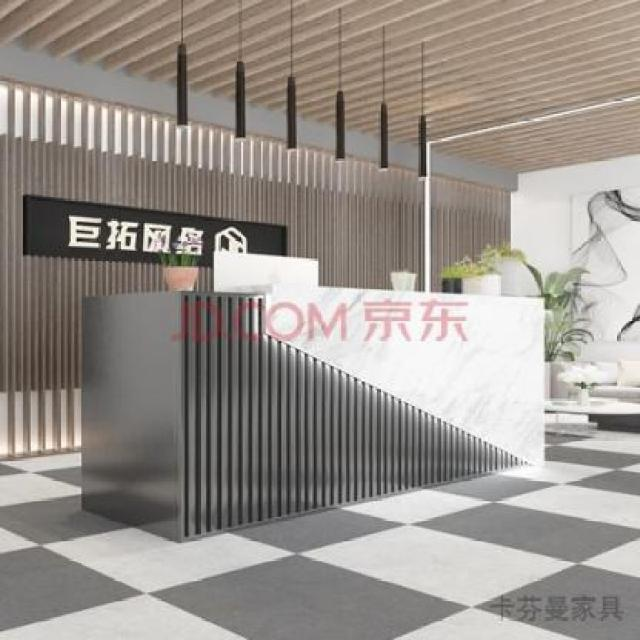frontdesk: (75, 282, 557, 552)
